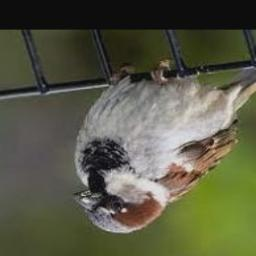Sparrow: (74, 43, 256, 233)
